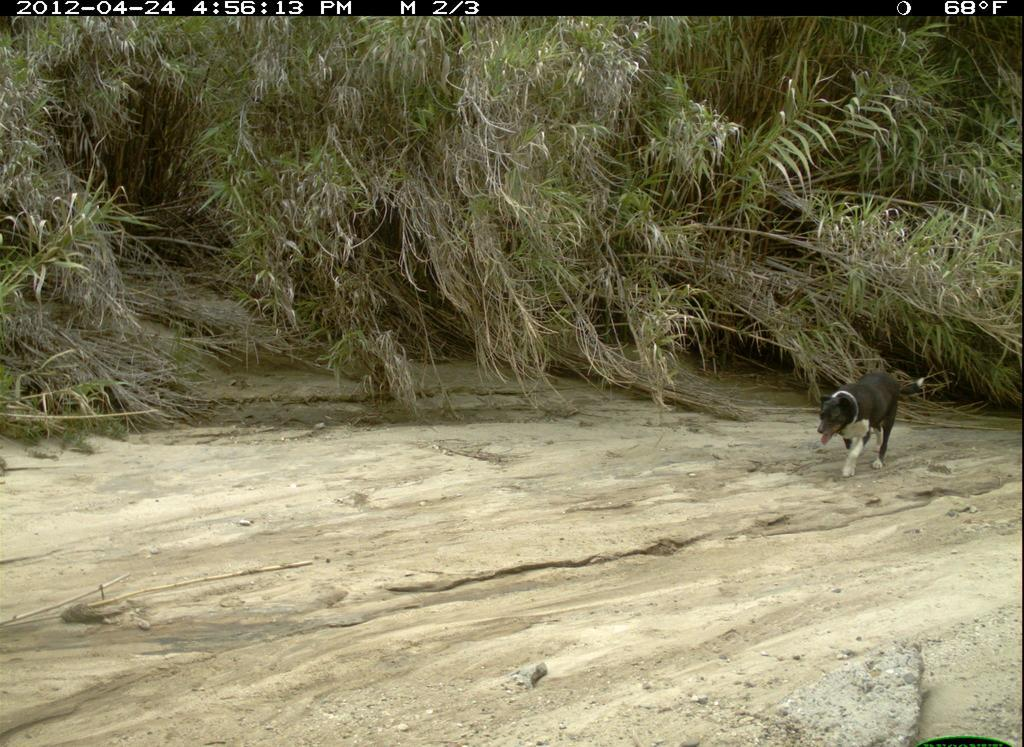dog: (808, 363, 936, 487)
